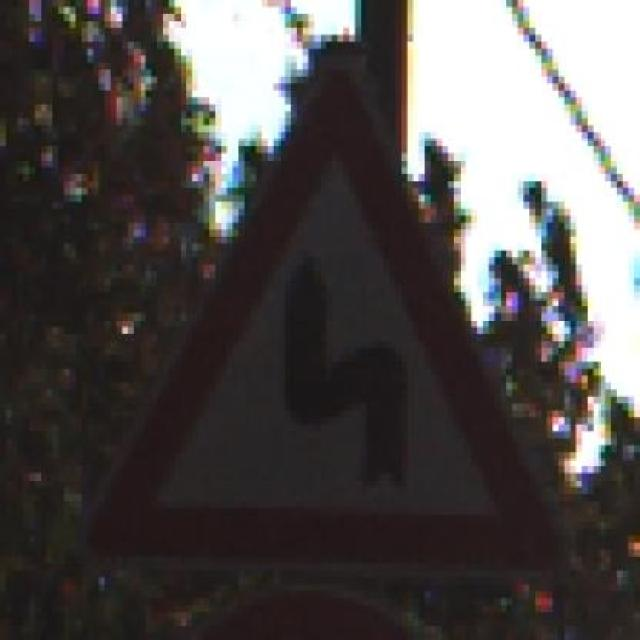Left Zig Zag Traffic: (81, 28, 564, 584)
